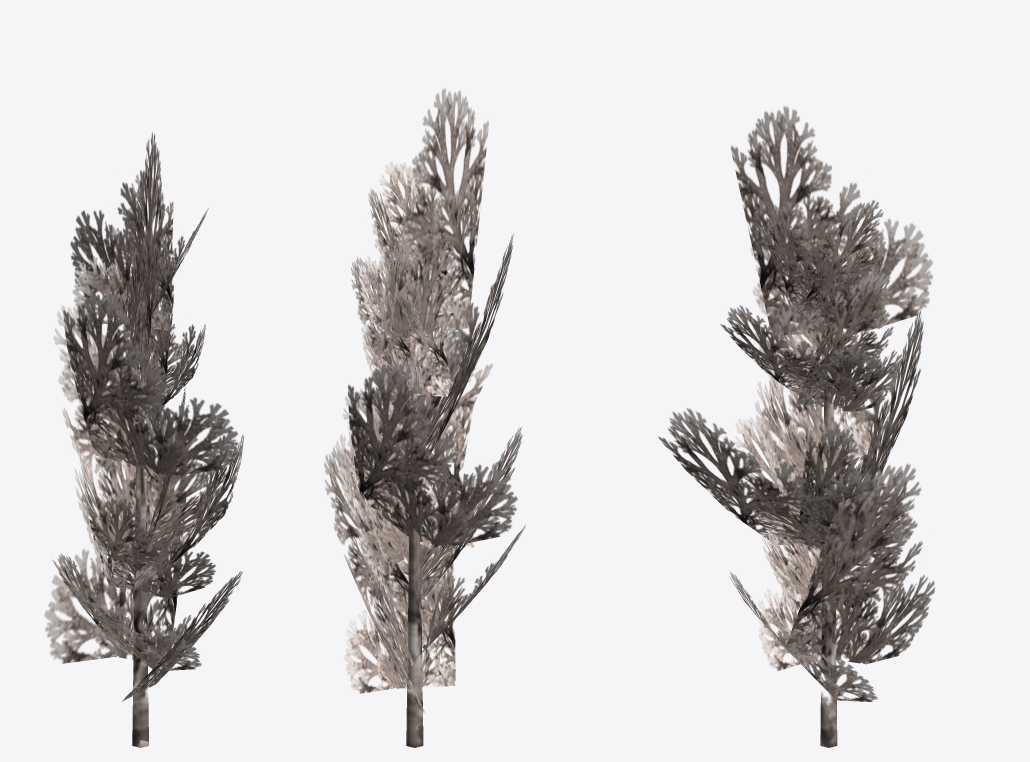
The model's file is seagrass2.glb.
The picture shows the model from 3 angles, left to right: view 1: azimuth 30°, elevation 25°; view 2: azimuth 150°, elevation 25°; view 3: azimuth 270°, elevation 25°; orthographic projection. The views are drawn at different scales.
Parts seen in each view (by area): view 1: gulfweed.2; view 2: gulfweed.2; view 3: gulfweed.2.
Boxes of the visible parts, x1,y1,x2,y2 form: gulfweed.2: [44, 132, 244, 747]; gulfweed.2: [324, 88, 525, 747]; gulfweed.2: [658, 106, 934, 747].
Bounding box in the file's own units: 240 × 726 × 385.
Materials: 1 (1 with a texture image).
